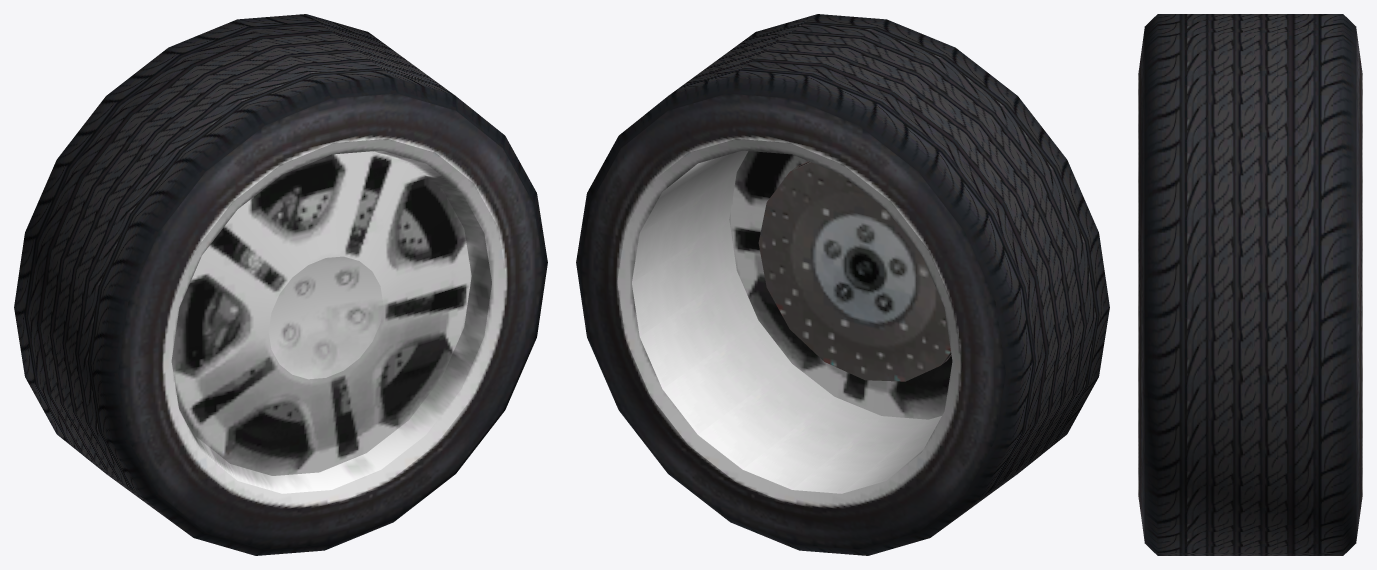
Rendered from llanta_izquierda.obj.
The picture shows the model from 3 angles, left to right: view 1: azimuth 30°, elevation 25°; view 2: azimuth 150°, elevation 25°; view 3: azimuth 270°, elevation 25°; orthographic projection. The views are drawn at different scales.
Parts seen in each view (by area): view 1: sportscar-wheel-LF.001; view 2: sportscar-wheel-LF.001; view 3: sportscar-wheel-LF.001.
Part boxes in pixels (bbox=[...]): sportscar-wheel-LF.001: bbox=[14, 14, 547, 555]; sportscar-wheel-LF.001: bbox=[576, 14, 1109, 555]; sportscar-wheel-LF.001: bbox=[1138, 14, 1362, 555].
Size of the model in its own units: 3.79 by 3.79 by 1.56.
